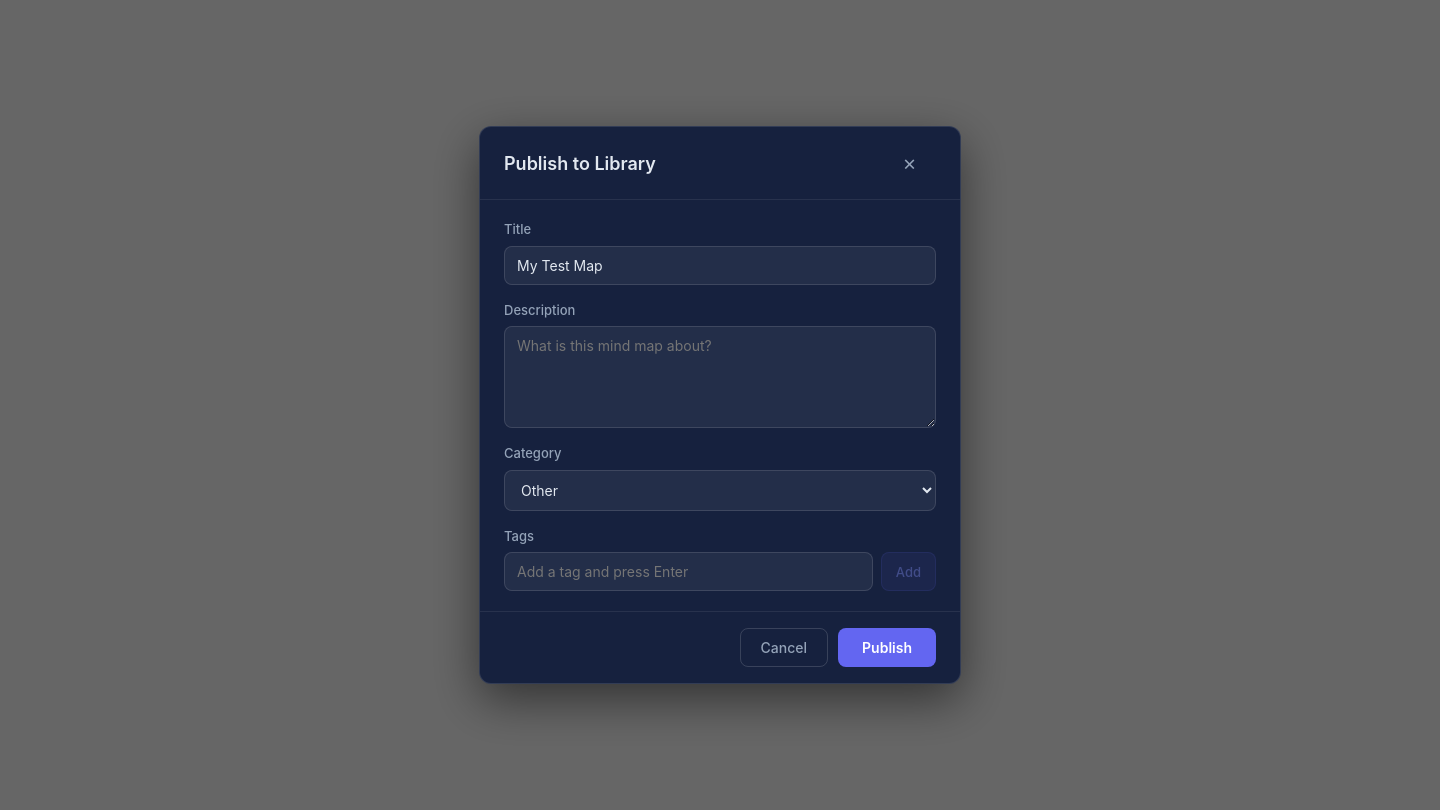
Test: PublishModal › remove tag button works
The width and height of the screenshot is (1440, 810).
In the field with placeholder "Add a tag and press Enter": (688, 572) x1=504 y1=552 x2=873 y2=591, type "removeme"
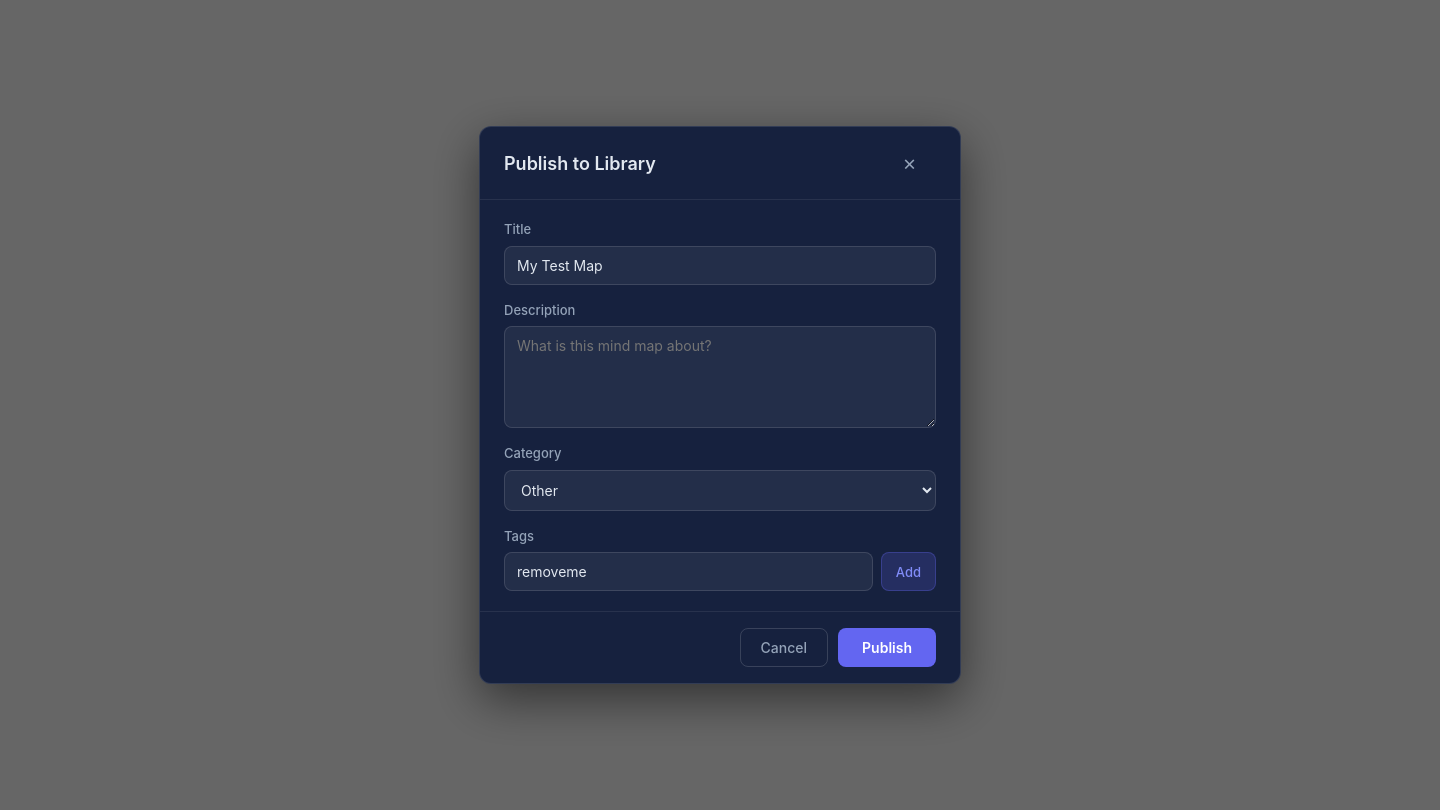
Press Enter in the field with placeholder "Add a tag and press Enter", box x1=504 y1=552 x2=873 y2=591
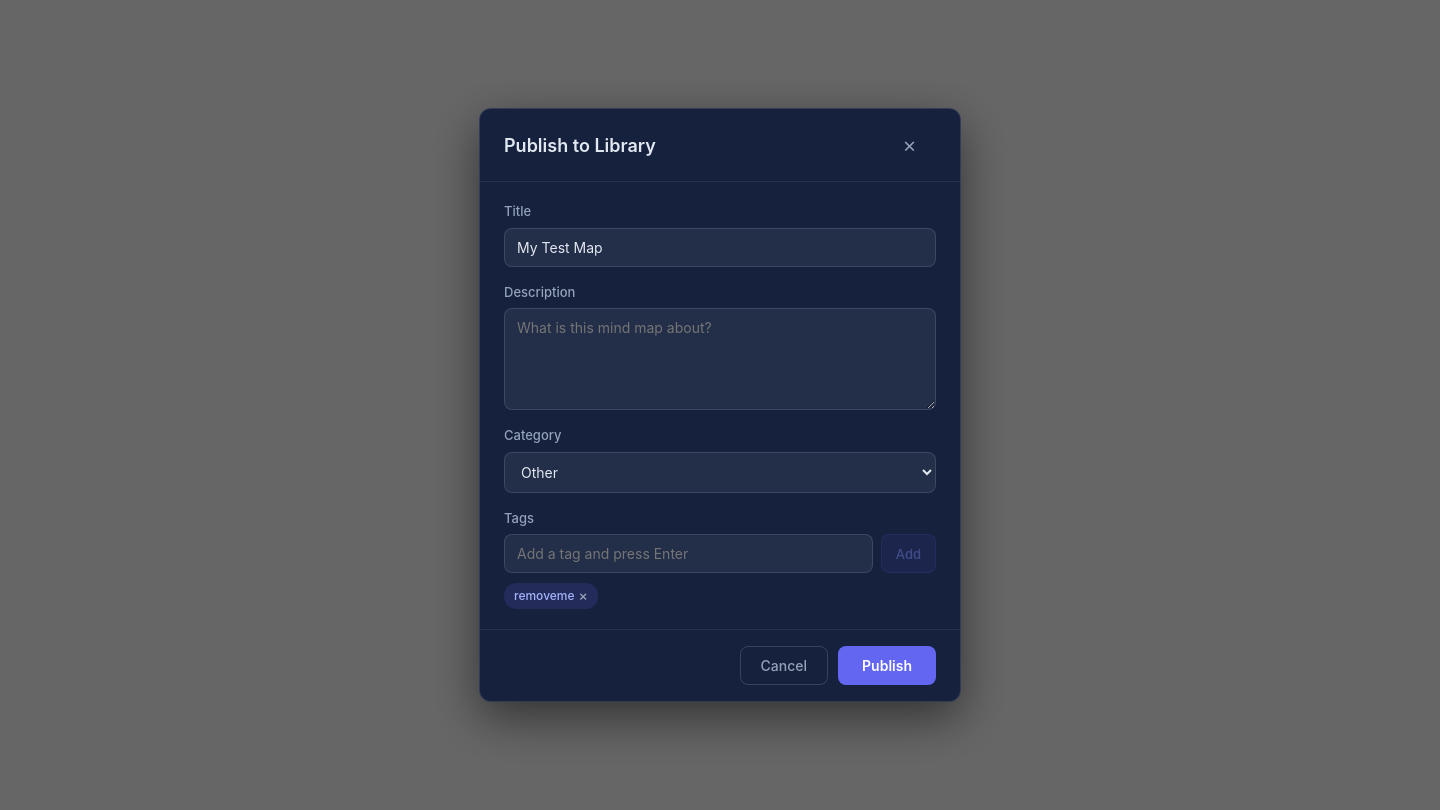
Result: the text "removeme" is shown at x1=514 y1=588 x2=575 y2=603
Note: The remove button is the \u00D7 next to the tag
Click the button "×" next to "removeme": click(583, 596) x1=579 y1=589 x2=588 y2=603
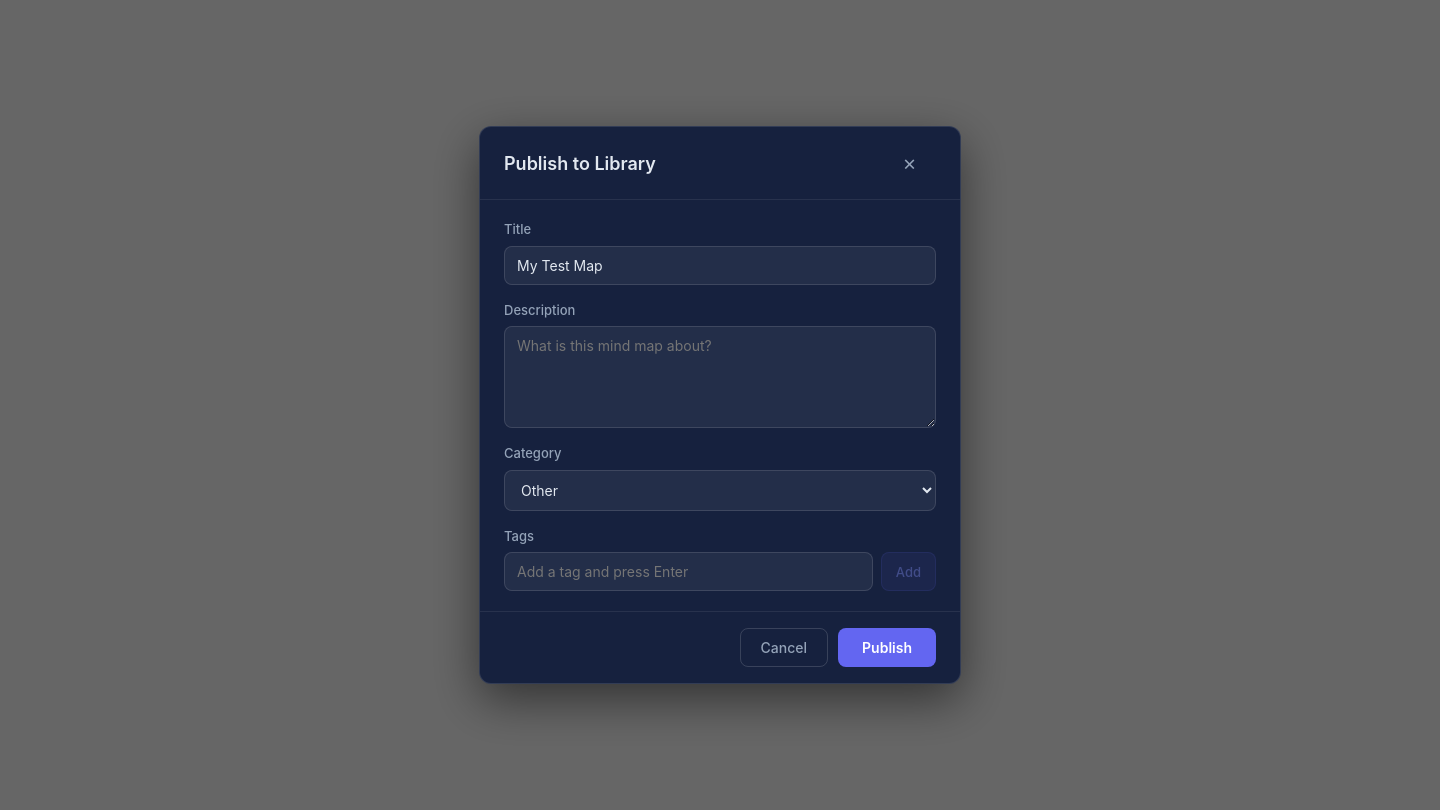
Result: the text "removeme" is gone
